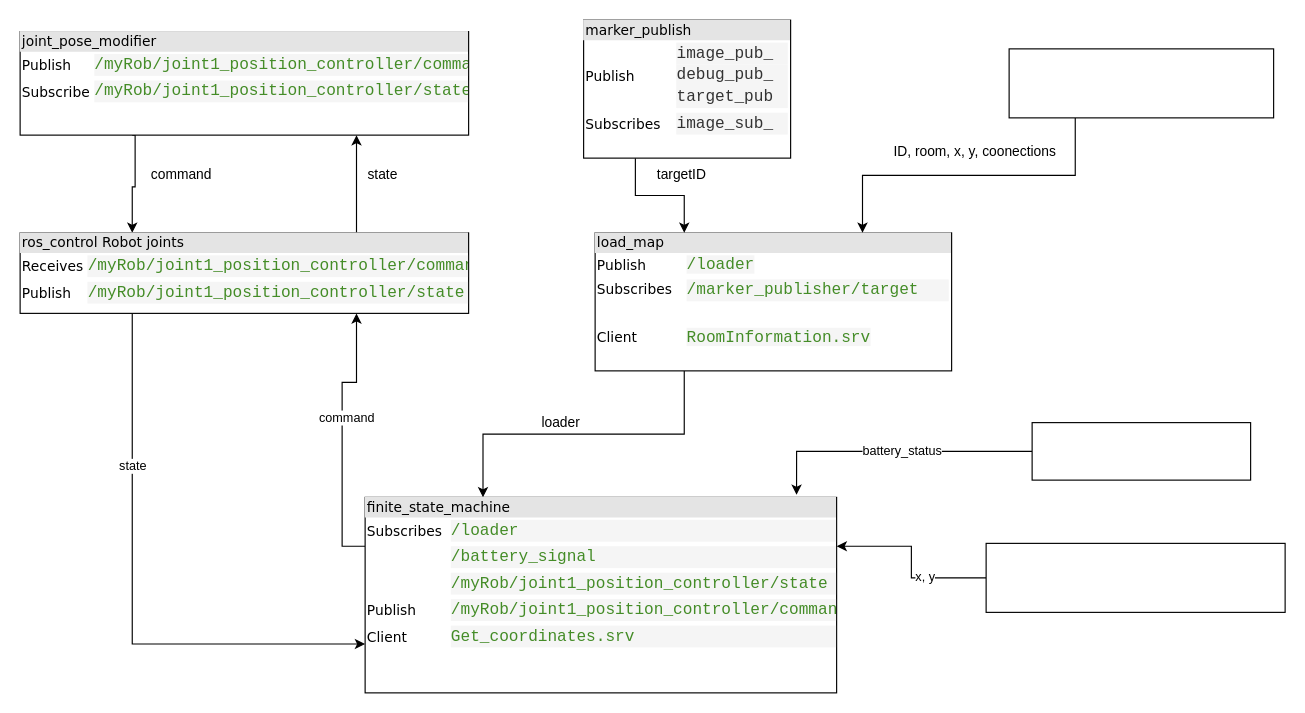
The diagram is 1305 pixels wide and 713 high, and some of its shapes have lost their labels. The centre of each missing label's shape, as x and y in pixels:
"battery_signal Publish /battery_signal" belongs at point (1141, 450).
"get_coordinate Server Get_coordinates.srv" belongs at point (1135, 577).
"marker_server Service RoomInformation.srv" belongs at point (1141, 83).
